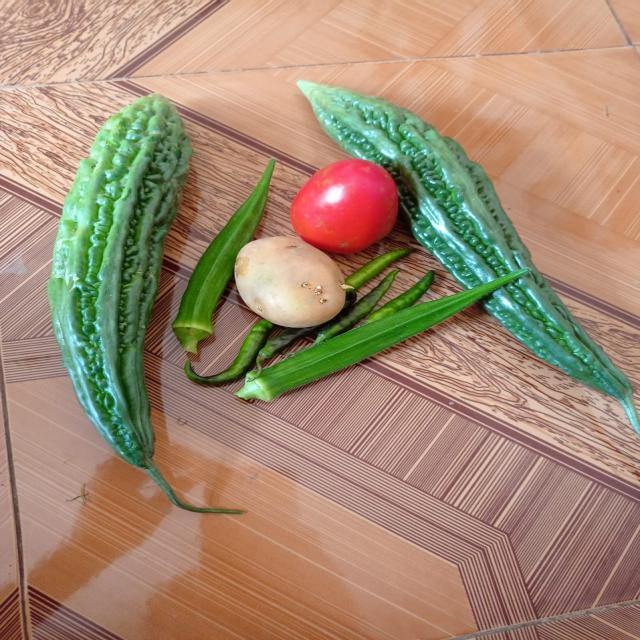Organik: (56, 74, 197, 501), (202, 336, 503, 407), (173, 168, 249, 360), (282, 162, 396, 251), (233, 238, 344, 329)
